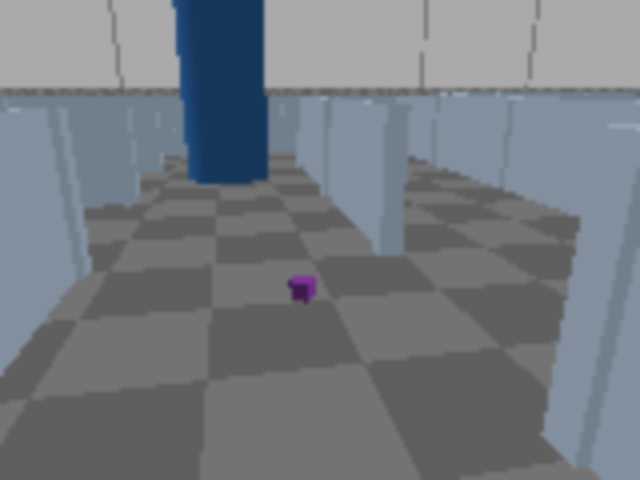puck: (290, 275, 315, 303)
